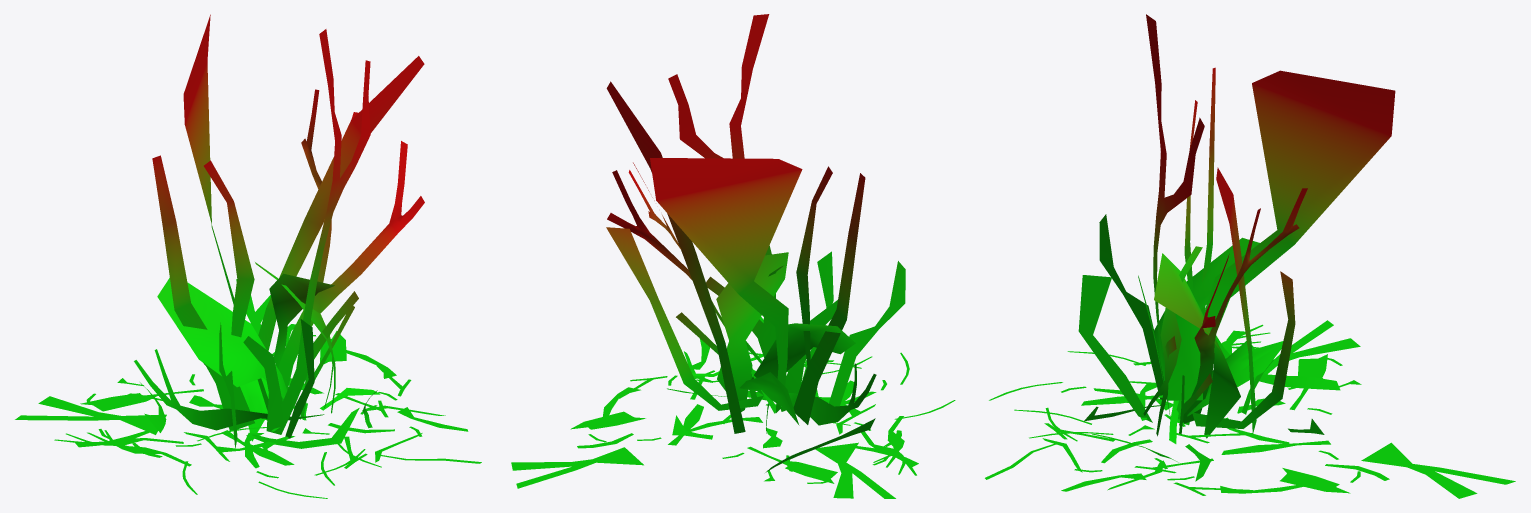
Rendered from Dead Shrubs_LOD1_Var3_vdknbbuha.fbx.
3 renders of one model, left to right at view 1: azimuth 30°, elevation 25°; view 2: azimuth 150°, elevation 25°; view 3: azimuth 270°, elevation 25°, orthographic. The views are drawn at different scales.
Visible parts, largest first — view 1: _4r66_Var3_LOD1; view 2: _4r66_Var3_LOD1; view 3: _4r66_Var3_LOD1.
Boxes of the visible parts, x1,y1,x2,y2 form: _4r66_Var3_LOD1: [15, 14, 481, 498]; _4r66_Var3_LOD1: [511, 14, 955, 498]; _4r66_Var3_LOD1: [985, 14, 1515, 498].
Bounding box in the file's own units: 42.97 × 46.88 × 51.97.
